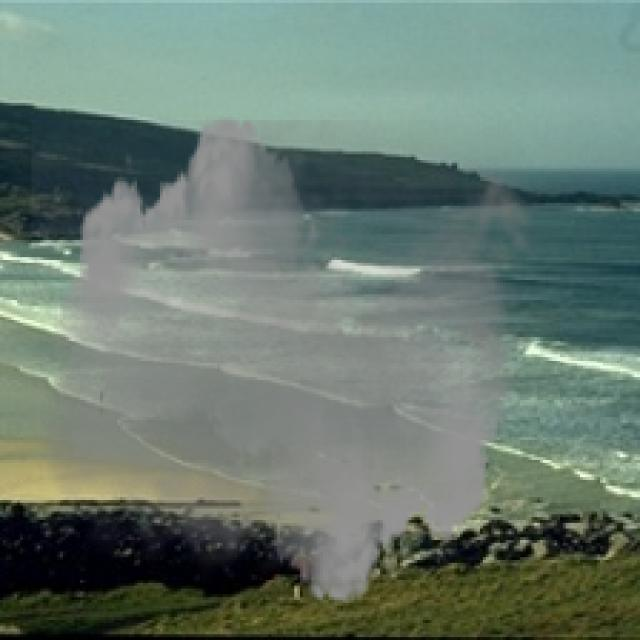smoke: (31, 100, 548, 620)
